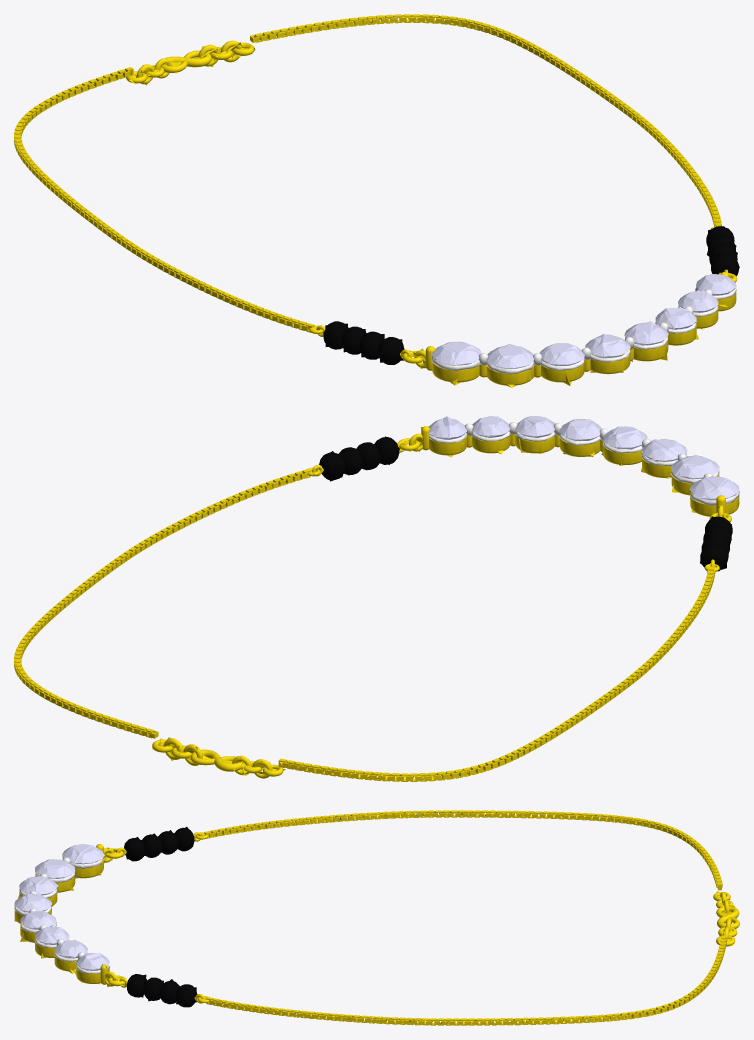
The picture shows the model from 3 angles, top to bottom: view 1: azimuth 30°, elevation 25°; view 2: azimuth 150°, elevation 25°; view 3: azimuth 270°, elevation 25°; orthographic projection. The views are drawn at different scales.
Visible parts, largest first — view 1: highPolyMesh, lowPolyMesh; view 2: highPolyMesh, lowPolyMesh; view 3: highPolyMesh, lowPolyMesh.
Part boxes in pixels (box(x1,y1,x2,y2)): highPolyMesh: box(14, 14, 739, 385); lowPolyMesh: box(16, 15, 739, 387); highPolyMesh: box(14, 416, 739, 781); lowPolyMesh: box(17, 416, 739, 781); highPolyMesh: box(14, 810, 739, 1025); lowPolyMesh: box(14, 811, 736, 1025).
Bounding box in the file's own units: 0.0612 × 0.00453 × 0.0891.
